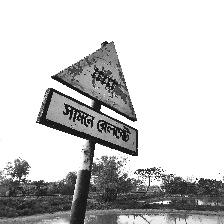Rail-crossing: (37, 40, 139, 157)
